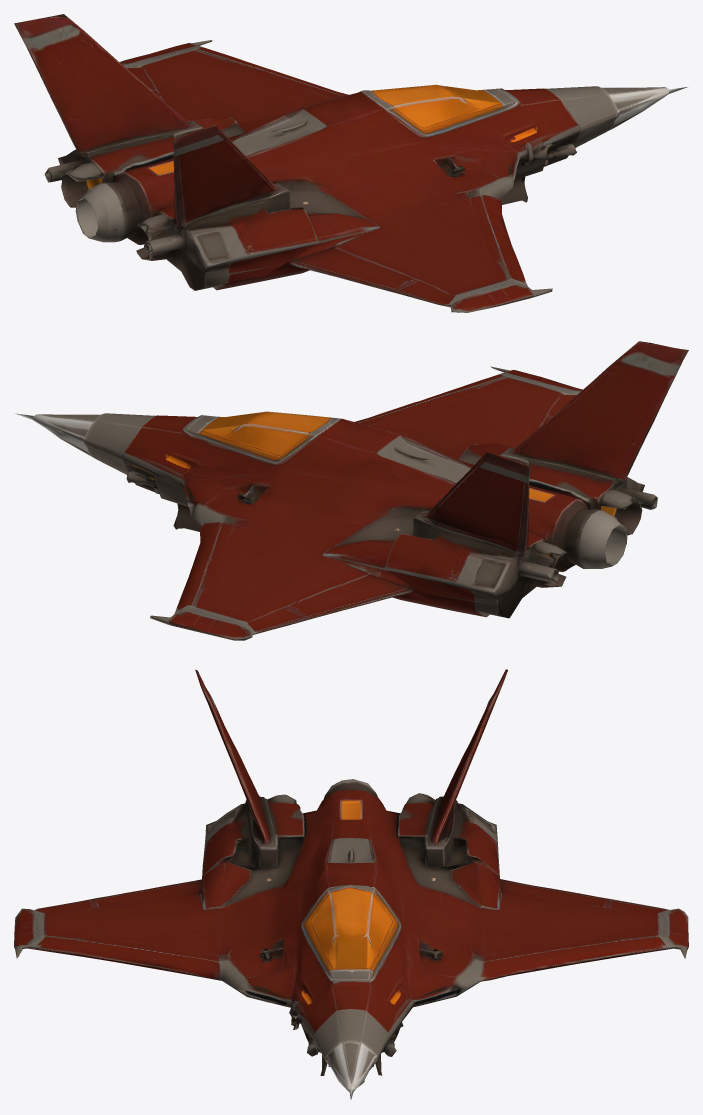
Rendered from sci-fi_fighter_drone_3d_model.glb.
The picture shows the model from 3 angles, top to bottom: view 1: azimuth 30°, elevation 25°; view 2: azimuth 150°, elevation 25°; view 3: azimuth 270°, elevation 25°; orthographic projection. The views are drawn at different scales.
Visible parts, largest first — view 1: tripo_node_e5d66ea2-bdd7-4f48-a0aa-21cfd81b1d1c; view 2: tripo_node_e5d66ea2-bdd7-4f48-a0aa-21cfd81b1d1c; view 3: tripo_node_e5d66ea2-bdd7-4f48-a0aa-21cfd81b1d1c.
Boxes of the visible parts, bbox=[...] form: tripo_node_e5d66ea2-bdd7-4f48-a0aa-21cfd81b1d1c: bbox=[14, 14, 687, 312]; tripo_node_e5d66ea2-bdd7-4f48-a0aa-21cfd81b1d1c: bbox=[15, 341, 688, 640]; tripo_node_e5d66ea2-bdd7-4f48-a0aa-21cfd81b1d1c: bbox=[14, 669, 688, 1099].
Size of the model in its own units: 1 by 0.3376 by 0.9917.
Materials: 1 (1 with a texture image).
